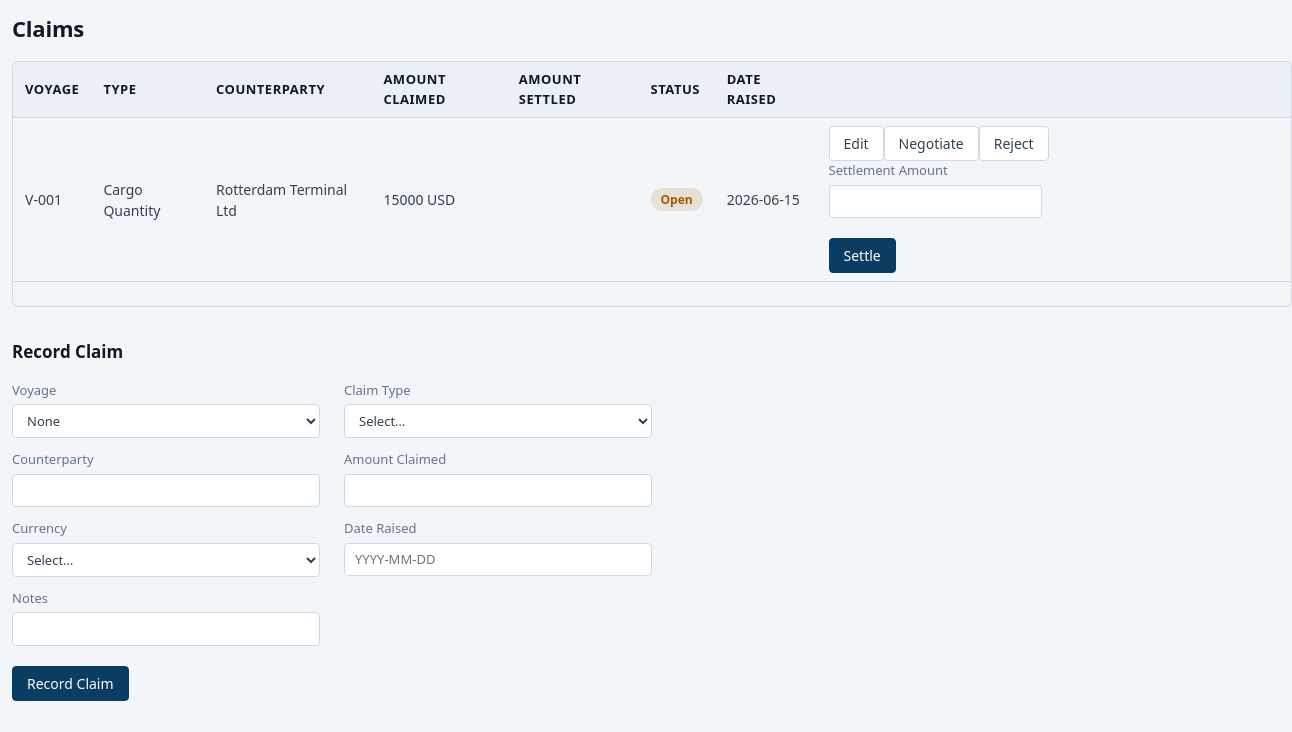
Test: ClaimsPage › lets the operator move a claim into negotiation
This screenshot has width=1292, height=732.
Expected: the text "Rotterdam Terminal Ltd" is shown, [204,118,371,282]
Click the button "Negotiate" at (931, 144), box [884,126,979,161]
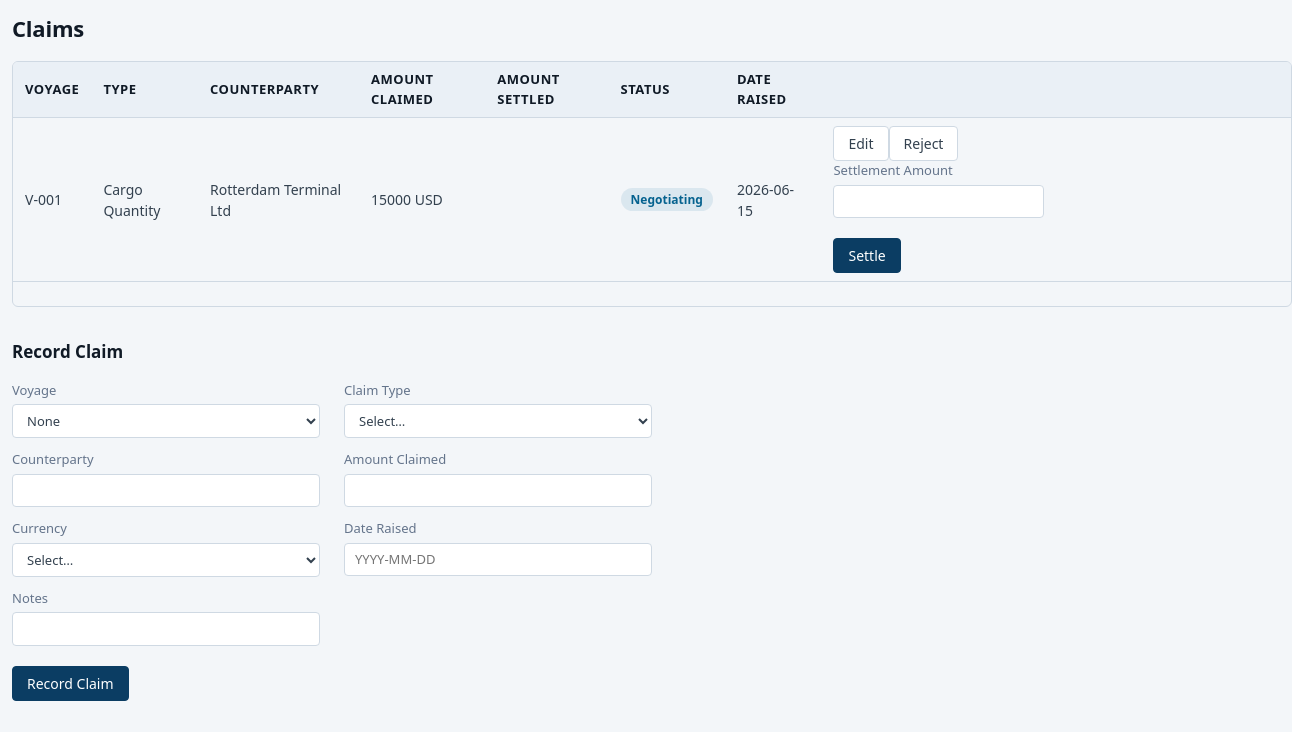
Expected: the text "Negotiating" is shown, [620,188,713,211]
